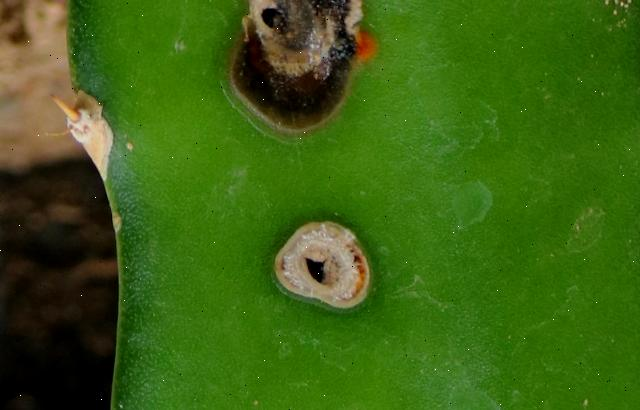stemcanker: (228, 0, 379, 143), (271, 216, 376, 314)
